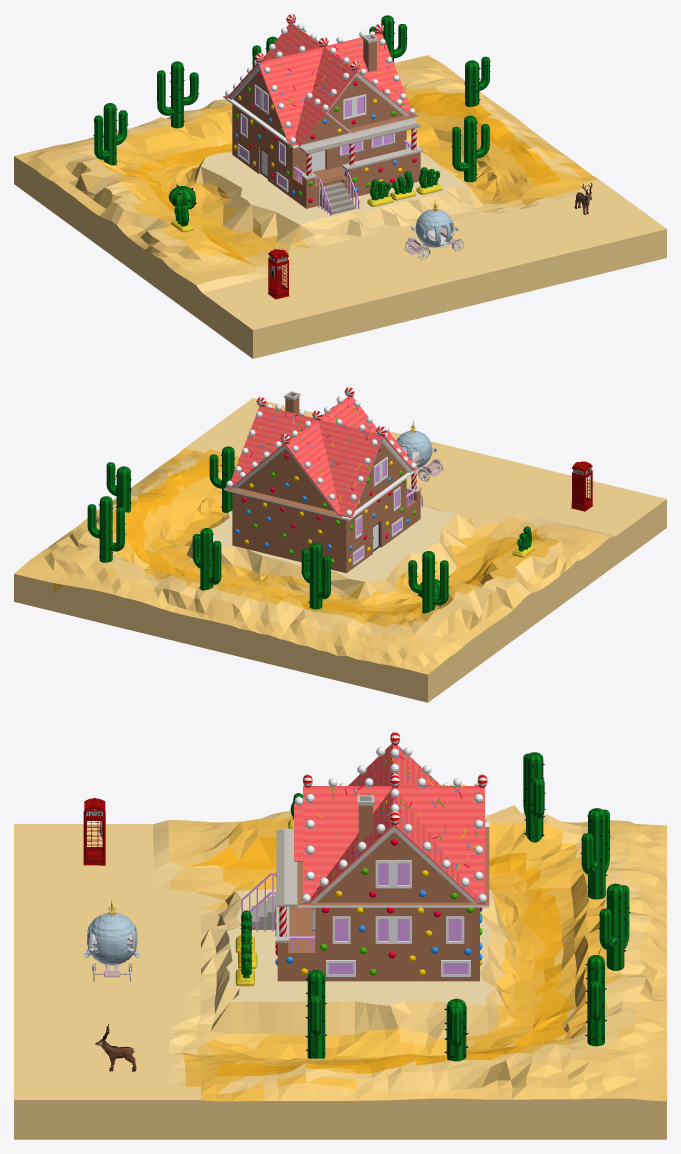
3 renders of one model, top to bottom at view 1: azimuth 30°, elevation 25°; view 2: azimuth 150°, elevation 25°; view 3: azimuth 270°, elevation 25°, orthographic. The views are drawn at different scales.
Visible parts, largest first — view 1: Cube.001, Cube.1203, VEHICLES_FANTASY_CARRIAGE, Cylinder.044, Cylinder.037, Cylinder.045, OBJRANDOM_PHONEBOOTH, Cylinder.038, Cylinder.042, Cylinder.039, Cylinder.041; view 2: Cube.001, Cube.1203, Cylinder.042, Cylinder.045, Cylinder.044, Cylinder.043, VEHICLES_FANTASY_CARRIAGE, Cylinder.037, OBJRANDOM_PHONEBOOTH, Cylinder.038; view 3: Cube.001, Cube.1203, VEHICLES_FANTASY_CARRIAGE, Cylinder.043, Cylinder.044, Cylinder.045, Cylinder.037, Cylinder.042, OBJRANDOM_PHONEBOOTH, Cylinder.038, Cylinder.041, ANIMAL_VENADO.
Boxes of the visible parts, <box> form: Cube.001: <box>14,55,666,358</box>; Cube.1203: <box>223,14,423,215</box>; VEHICLES_FANTASY_CARRIAGE: <box>404,199,464,259</box>; Cylinder.044: <box>157,61,199,128</box>; Cylinder.037: <box>451,115,489,182</box>; Cylinder.045: <box>93,103,128,165</box>; OBJRANDOM_PHONEBOOTH: <box>267,249,289,299</box>; Cylinder.038: <box>464,56,490,106</box>; Cylinder.042: <box>369,15,407,63</box>; Cylinder.039: <box>367,179,393,206</box>; Cylinder.041: <box>416,167,442,194</box>; Cube.001: <box>14,398,666,702</box>; Cube.1203: <box>224,387,422,573</box>; Cylinder.042: <box>87,496,125,562</box>; Cylinder.045: <box>408,551,449,613</box>; Cylinder.044: <box>301,542,331,609</box>; Cylinder.043: <box>192,528,221,590</box>; VEHICLES_FANTASY_CARRIAGE: <box>396,420,443,481</box>; Cylinder.037: <box>209,446,239,512</box>; OBJRANDOM_PHONEBOOTH: <box>571,461,593,511</box>; Cylinder.038: <box>106,462,131,512</box>; Cube.001: <box>14,805,666,1139</box>; Cube.1203: <box>241,731,489,981</box>; VEHICLES_FANTASY_CARRIAGE: <box>84,900,139,982</box>; Cylinder.043: <box>598,883,630,970</box>; Cylinder.044: <box>580,808,610,899</box>; Cylinder.045: <box>523,752,545,842</box>; Cylinder.037: <box>305,969,326,1058</box>; Cylinder.042: <box>585,955,606,1046</box>; OBJRANDOM_PHONEBOOTH: <box>83,798,105,865</box>; Cylinder.038: <box>444,998,468,1061</box>; Cylinder.041: <box>235,943,254,986</box>; ANIMAL_VENADO: <box>95,1024,136,1071</box>.
Bounding box in the file's own units: 4002 × 1645 × 4001.
43 materials, 3 textured.
